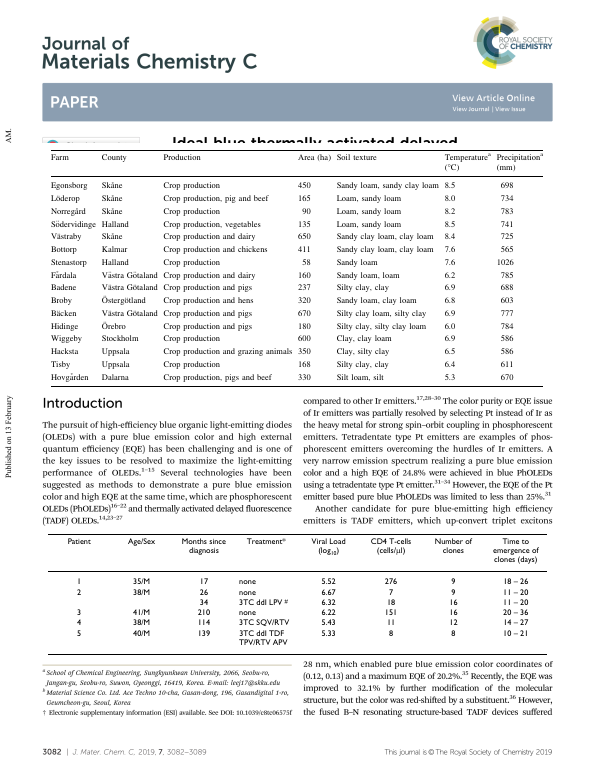borderless: (50, 148, 543, 386), (47, 532, 547, 654)
cell: (491, 536, 539, 565), (162, 347, 293, 357), (162, 373, 272, 383), (443, 151, 492, 173), (495, 151, 544, 173), (162, 194, 269, 204), (162, 245, 268, 255), (335, 182, 440, 192), (162, 220, 261, 230), (335, 233, 434, 243), (335, 245, 434, 255), (238, 628, 288, 647), (369, 535, 412, 557), (162, 233, 256, 243), (162, 271, 256, 281), (162, 296, 254, 306), (335, 309, 427, 319), (335, 322, 427, 332), (162, 284, 253, 294), (162, 309, 253, 319), (162, 322, 253, 332), (180, 536, 226, 555), (335, 296, 417, 306), (310, 536, 346, 557), (433, 536, 472, 555), (335, 194, 402, 204), (335, 207, 402, 217), (335, 220, 402, 230), (335, 271, 400, 281), (162, 182, 221, 192), (162, 207, 221, 217), (162, 258, 221, 268), (162, 335, 221, 345), (162, 360, 221, 370), (100, 271, 158, 281), (100, 284, 158, 294), (100, 309, 158, 319), (335, 335, 392, 345), (335, 347, 390, 357), (335, 284, 389, 294), (335, 360, 389, 370), (238, 618, 290, 628), (100, 295, 146, 306), (238, 597, 288, 607), (335, 373, 384, 383), (50, 220, 97, 230), (335, 258, 378, 268), (335, 153, 377, 163), (245, 536, 286, 546), (162, 153, 201, 163), (100, 335, 139, 345), (50, 373, 89, 383), (50, 182, 88, 192), (50, 258, 87, 268), (50, 207, 86, 217), (297, 153, 332, 163), (50, 335, 83, 345), (50, 233, 82, 243), (100, 320, 126, 332), (50, 194, 80, 204), (100, 347, 130, 357), (100, 360, 130, 370), (126, 536, 156, 546), (100, 220, 129, 230), (100, 258, 129, 268), (50, 322, 79, 332), (50, 347, 79, 357), (100, 373, 129, 383), (100, 245, 128, 255), (100, 153, 127, 163), (50, 245, 77, 255), (50, 271, 77, 281), (50, 284, 77, 294), (50, 309, 77, 319), (502, 577, 529, 587), (502, 587, 529, 597), (502, 608, 529, 618), (502, 618, 529, 628), (502, 628, 529, 638), (100, 181, 123, 192), (100, 232, 123, 243), (66, 536, 91, 546), (502, 598, 529, 607), (100, 194, 123, 204), (100, 207, 123, 217), (50, 296, 73, 306), (50, 360, 71, 370), (49, 153, 69, 163), (495, 258, 514, 268), (132, 577, 151, 587), (132, 587, 151, 597), (132, 608, 151, 618), (132, 618, 151, 628), (132, 628, 151, 638), (238, 577, 256, 587), (238, 587, 256, 597), (238, 608, 256, 618), (320, 577, 336, 587), (320, 587, 336, 597), (320, 608, 336, 618), (320, 618, 336, 628), (320, 628, 336, 638), (499, 182, 514, 192), (499, 194, 514, 204), (499, 207, 514, 217), (499, 220, 514, 230), (499, 233, 514, 243), (499, 245, 514, 255), (499, 271, 514, 281), (499, 284, 514, 294), (499, 296, 514, 306), (499, 309, 514, 319), (499, 322, 514, 332), (499, 335, 514, 345), (499, 347, 514, 357), (499, 360, 514, 370), (499, 373, 514, 383), (383, 577, 398, 587), (196, 608, 211, 618), (383, 608, 398, 618), (196, 618, 211, 628), (196, 628, 211, 638), (320, 598, 336, 607), (297, 182, 311, 192), (297, 194, 311, 204), (297, 220, 311, 230), (297, 233, 311, 243), (297, 245, 311, 255), (297, 271, 311, 281), (297, 284, 311, 294), (297, 296, 311, 306), (297, 309, 311, 319), (297, 322, 311, 332), (297, 335, 311, 345), (297, 347, 311, 357), (297, 360, 311, 370), (297, 373, 311, 383), (443, 182, 456, 192), (443, 194, 456, 204), (443, 207, 456, 217), (443, 220, 456, 230), (443, 233, 456, 243), (443, 245, 456, 255), (443, 258, 456, 268), (443, 271, 456, 281), (443, 284, 456, 294), (443, 296, 456, 306), (443, 309, 456, 319), (443, 322, 456, 332), (443, 335, 456, 345), (443, 347, 456, 357), (443, 360, 456, 370), (443, 373, 456, 383), (198, 577, 209, 587), (198, 587, 209, 597), (385, 618, 396, 628), (301, 207, 311, 217), (301, 258, 311, 268), (448, 608, 458, 618), (448, 618, 458, 628), (198, 598, 209, 607), (385, 598, 396, 607), (448, 598, 458, 607), (387, 587, 394, 597), (387, 628, 394, 638), (76, 577, 82, 587), (450, 577, 456, 587), (76, 587, 82, 597), (450, 587, 456, 597), (76, 608, 82, 618), (76, 618, 82, 628), (76, 628, 82, 638), (450, 628, 456, 638)
